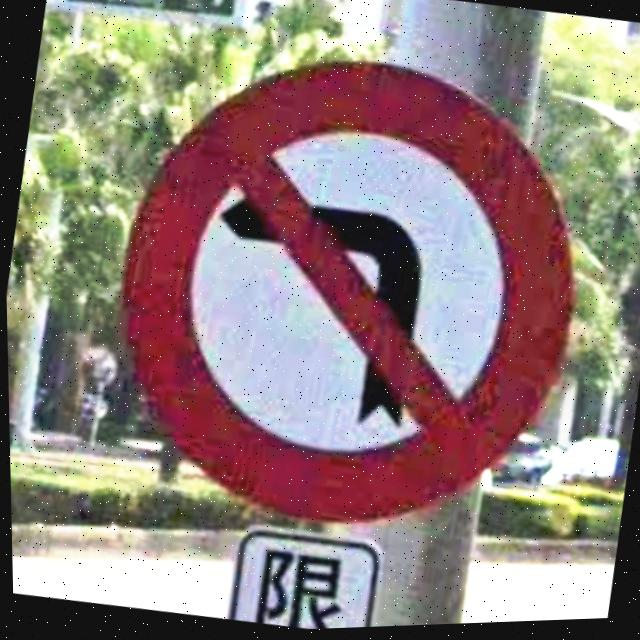noturnleft: (118, 66, 573, 529)
